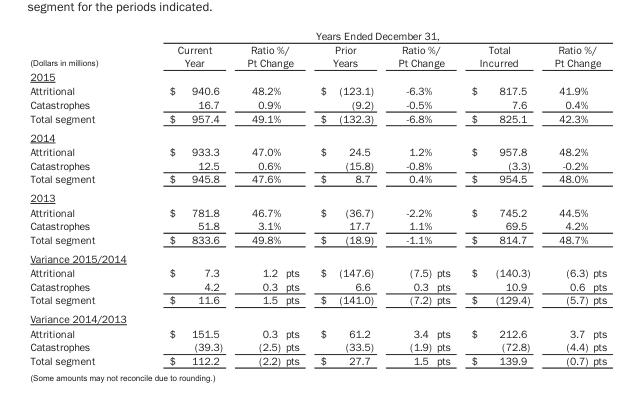table: (29, 29, 606, 366)
table column: (29, 29, 133, 366), (133, 29, 234, 366), (460, 29, 541, 366), (309, 29, 385, 366), (234, 29, 282, 366), (385, 29, 433, 366), (541, 29, 589, 366), (282, 29, 309, 366), (433, 29, 460, 366), (589, 29, 606, 366)
table column header: (29, 29, 606, 69)
table projected row header: (29, 127, 606, 144), (29, 187, 606, 204), (29, 248, 606, 265), (29, 309, 606, 325), (29, 69, 606, 83)
table row: (29, 42, 606, 69), (29, 110, 606, 127), (29, 127, 606, 144), (29, 187, 606, 204), (29, 248, 606, 265), (29, 292, 606, 309), (29, 171, 606, 187), (29, 232, 606, 248), (29, 309, 606, 325), (29, 69, 606, 83), (29, 83, 606, 97), (29, 144, 606, 158), (29, 204, 606, 218), (29, 218, 606, 232), (29, 265, 606, 279), (29, 325, 606, 339), (29, 339, 606, 353), (29, 29, 606, 42), (29, 97, 606, 110), (29, 158, 606, 171), (29, 279, 606, 292), (29, 353, 606, 366)
table spanning cell: (133, 29, 589, 42), (29, 29, 133, 69), (234, 42, 309, 69), (385, 42, 460, 69), (541, 42, 606, 69)
